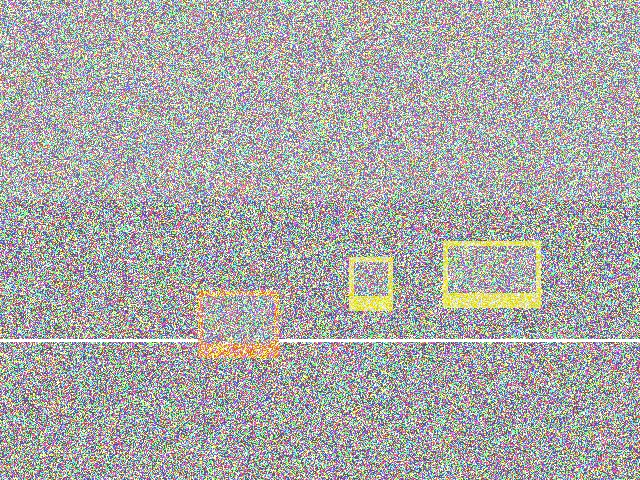car: (369, 389, 459, 443)
